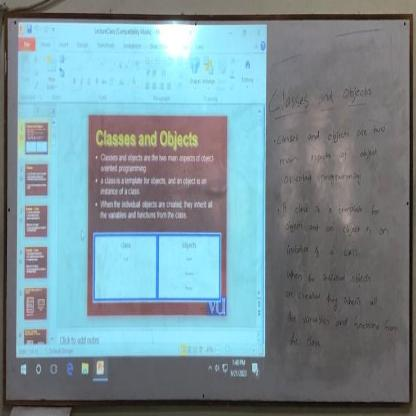Handwritten text: (266, 73, 376, 116), (285, 310, 399, 337), (276, 122, 391, 147), (284, 219, 392, 242), (280, 287, 385, 310), (281, 197, 383, 219), (277, 167, 365, 192), (282, 265, 379, 287), (275, 146, 383, 165), (284, 240, 363, 261)
Whiteboard: (7, 14, 413, 405)
